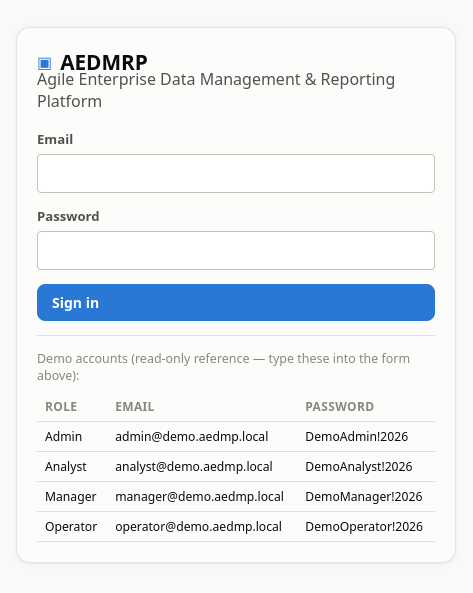
Scenario: LoginPage › shows an email format error for an invalid address
Type "not-an-email" into the field labelled "Email" at (236, 174), box left=37, top=154, right=435, bottom=193
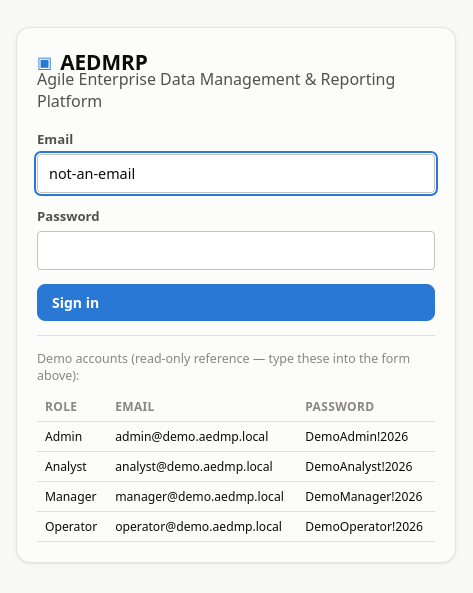
Leave the field labelled "Email", box left=37, top=154, right=435, bottom=193
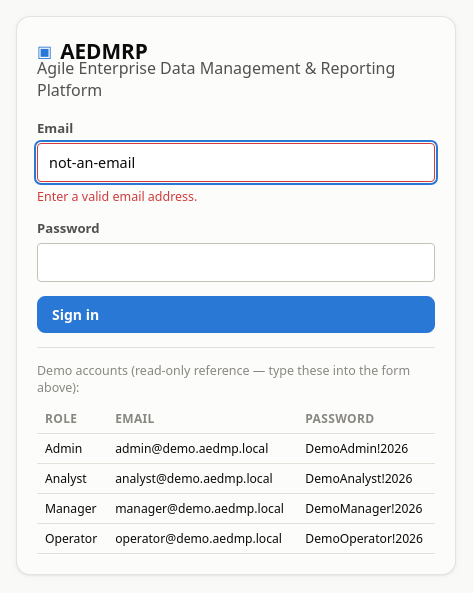
Result: the text "Enter a valid email address." is shown at left=37, top=188, right=197, bottom=204
